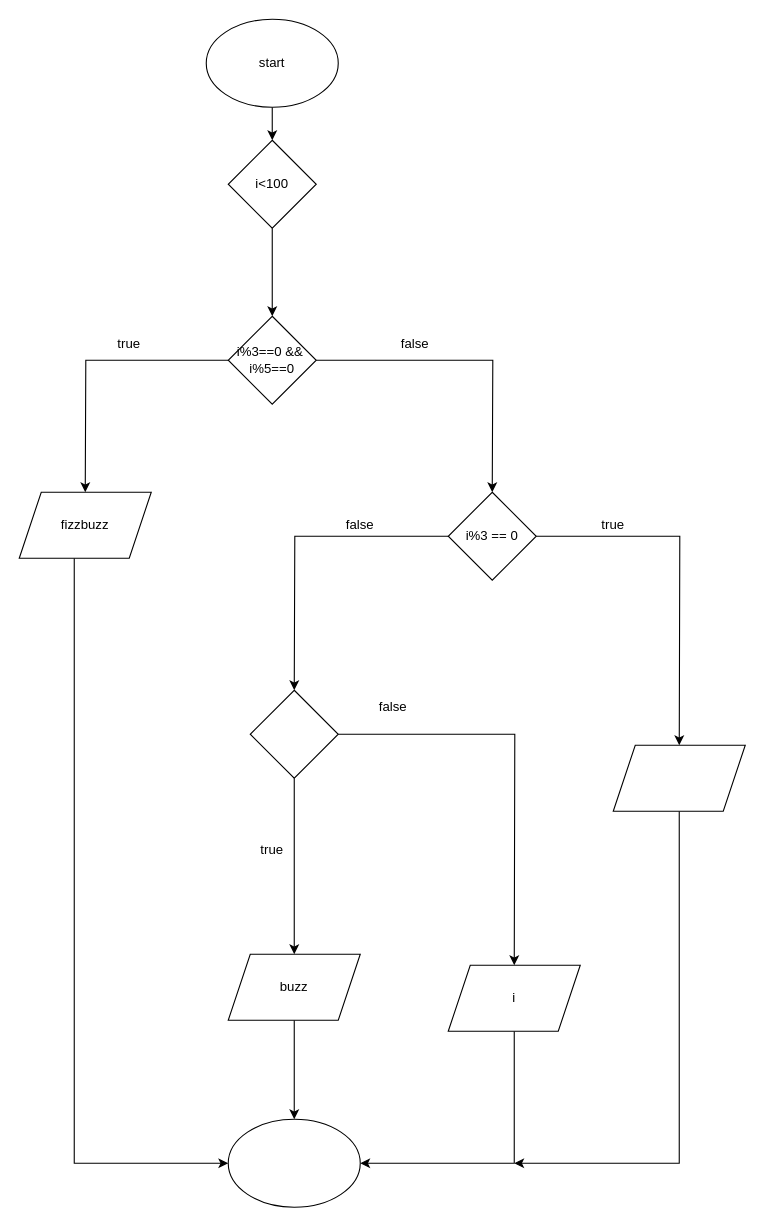
The diagram is 765 pixels wide and 1227 high, and some of its shapes have lost their labels. Here are the shapes that lost their labels. From the top down, the centre of each, then its label:
At pixel 293 733: "i%5==0".
At pixel 678 777: "fizz".
At pixel 293 1162: "ebd".
